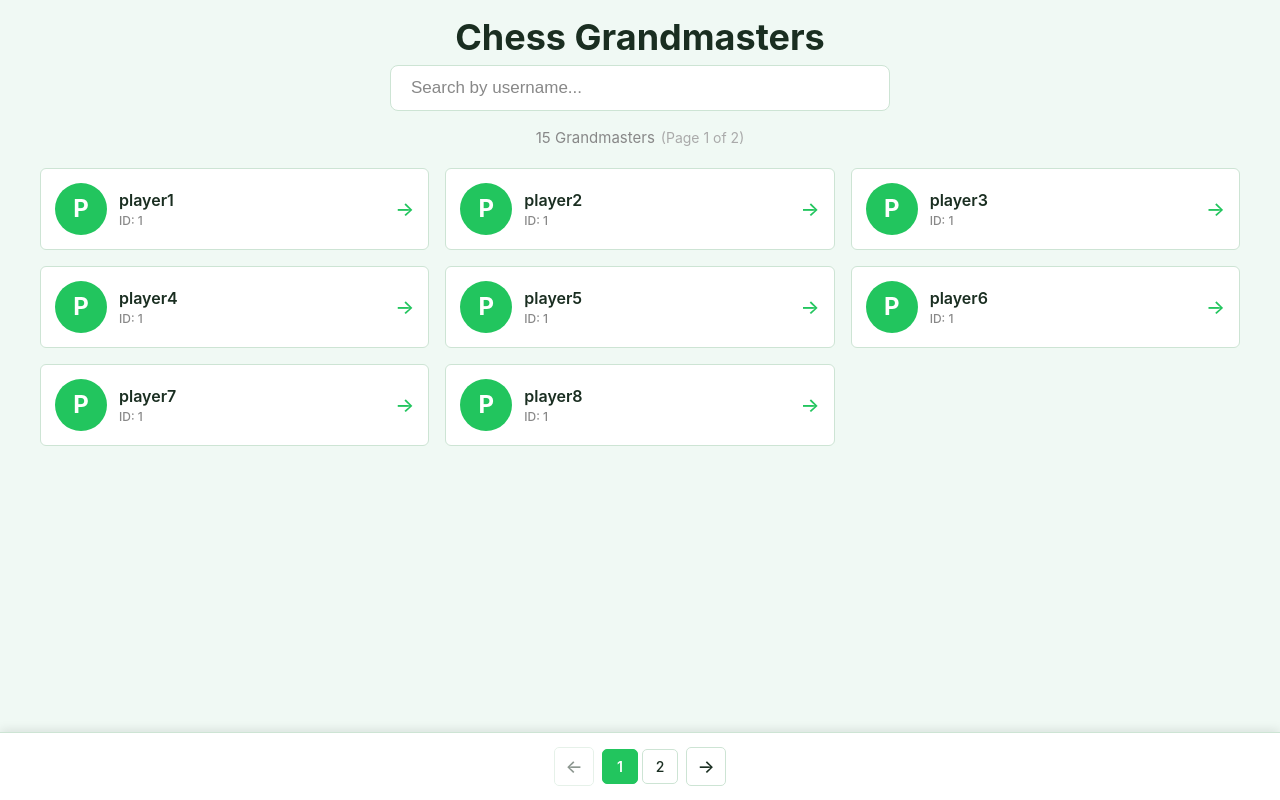
Test: GrandmasterList › navigates to next page when next button is clicked
Check: the text "15 Grandmasters" is shown, box [536,128,744,147]
Step 1. Click the button named "Next page" → (706, 766), box [686,747,726,786]
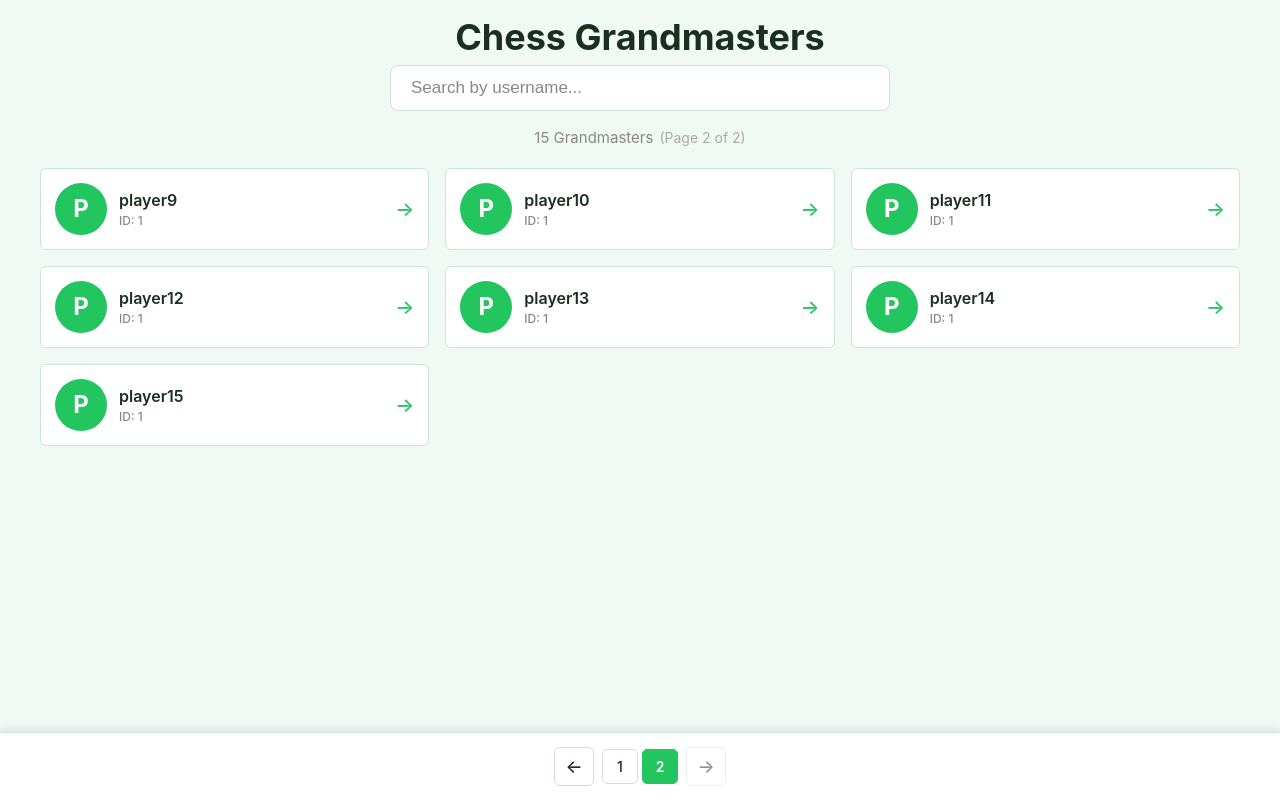
Check: the text "(Page 2 of 2)" is shown, box [659,128,746,148]
Check: the button named "Previous page" is enabled, box [554,747,594,786]
